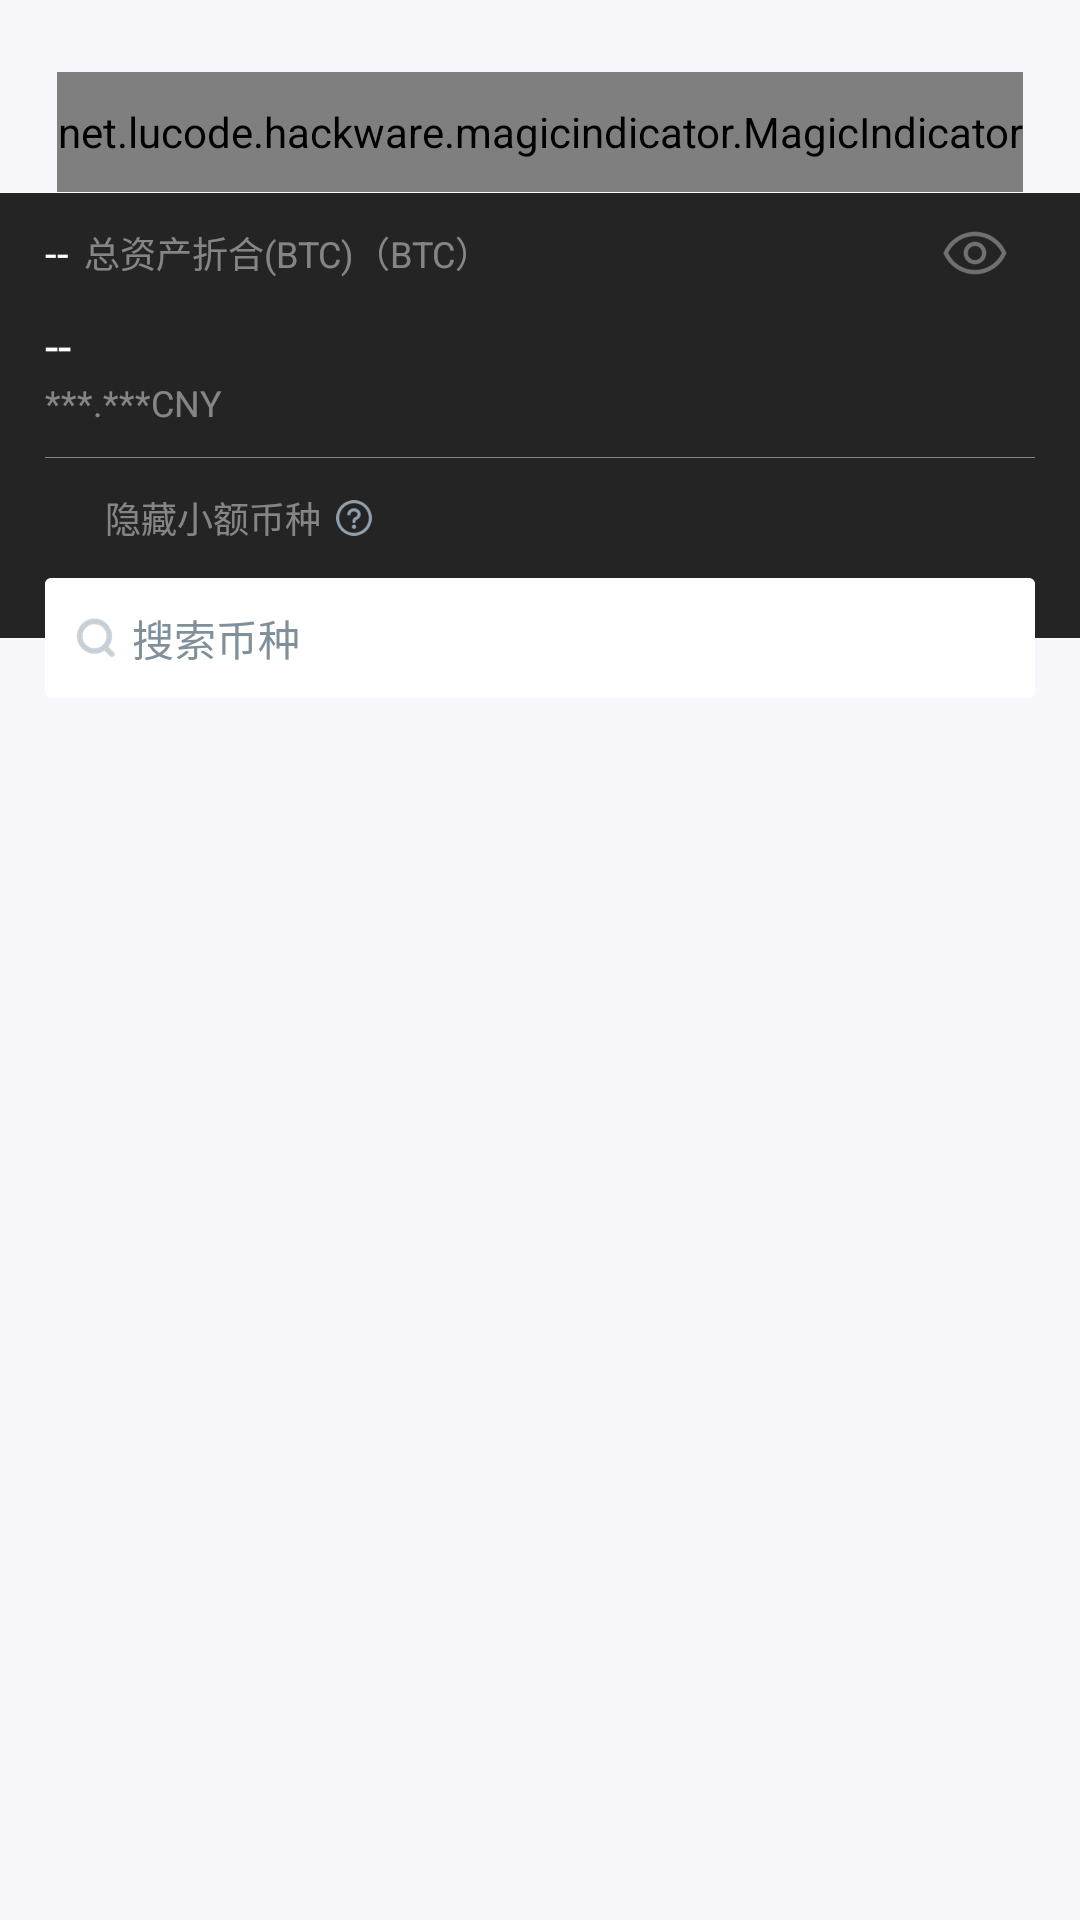

Point at icon controls on the screen. Image size 1080x1920, points as [x,y].
notice: [354,518]
pwd eye open: [975,253]
